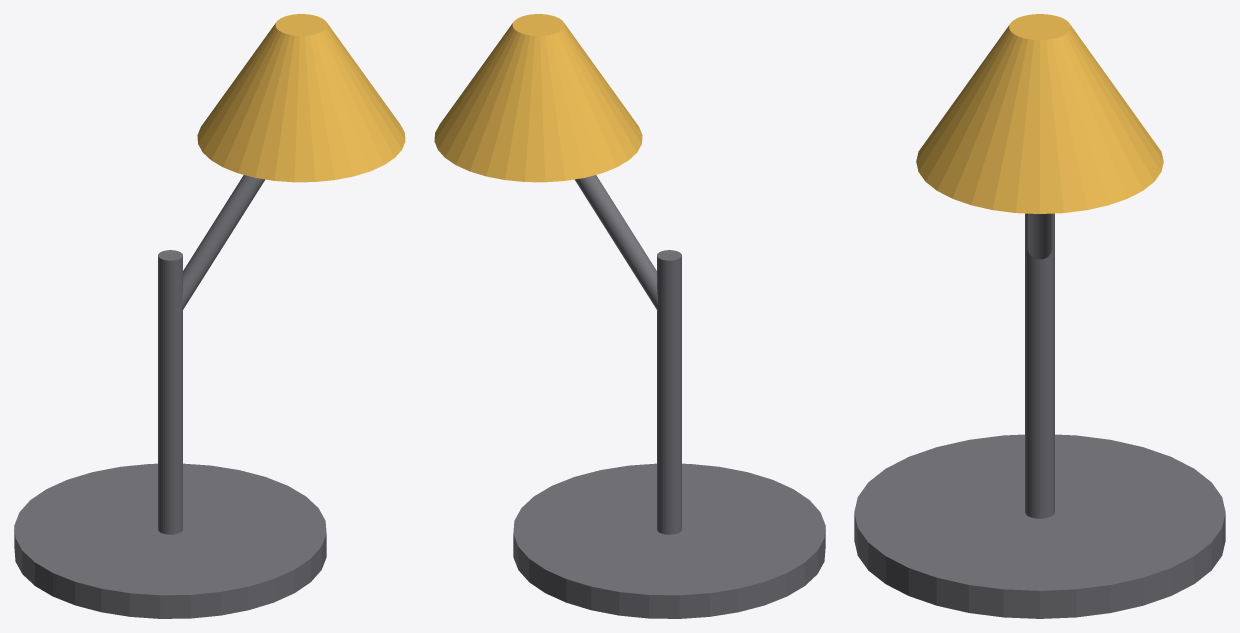
File: lamp1.glb
3 views of the same model, side by side, from view 1: azimuth 30°, elevation 25°; view 2: azimuth 150°, elevation 25°; view 3: azimuth 270°, elevation 25° (orthographic). The views are drawn at different scales.
Visible parts, largest first — view 1: L1_Base, L1_Shade, L1_Pole, L1_Arm; view 2: L1_Base, L1_Shade, L1_Pole, L1_Arm; view 3: L1_Base, L1_Shade, L1_Pole, L1_Arm.
Part boxes in pixels (bbox=[...]): L1_Base: bbox=[14, 463, 326, 618]; L1_Shade: bbox=[197, 14, 405, 182]; L1_Pole: bbox=[158, 250, 182, 534]; L1_Arm: bbox=[181, 175, 265, 309]; L1_Base: bbox=[513, 463, 825, 618]; L1_Shade: bbox=[434, 14, 642, 182]; L1_Pole: bbox=[657, 250, 681, 534]; L1_Arm: bbox=[574, 175, 658, 309]; L1_Base: bbox=[854, 434, 1225, 618]; L1_Shade: bbox=[916, 14, 1163, 213]; L1_Pole: bbox=[1025, 213, 1054, 518]; L1_Arm: bbox=[1027, 213, 1052, 259].
Bounding box in the file's own units: 0.395 × 0.525 × 0.3.
